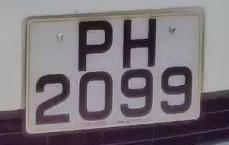0: (73, 67, 119, 125)
2: (30, 67, 75, 131)
9: (112, 65, 162, 123), (152, 59, 197, 122)
H: (115, 14, 166, 71)
P: (70, 14, 120, 76)
